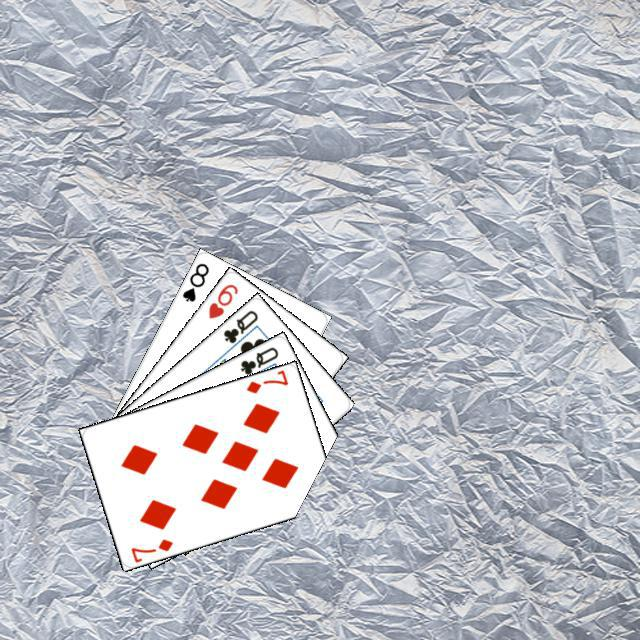6h: (203, 279, 240, 320)
7d: (241, 366, 290, 395), (126, 534, 174, 563)
8s: (177, 258, 211, 304)
Qc: (218, 305, 261, 353), (235, 342, 280, 383)
